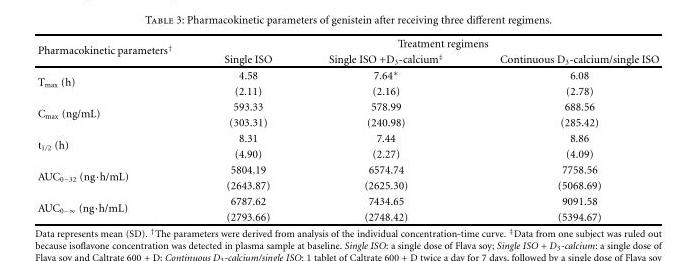table: (36, 37, 658, 222)
table column: (470, 37, 658, 222), (299, 37, 470, 222), (36, 37, 197, 222), (197, 37, 299, 222)
table column header: (36, 37, 658, 66)
table row: (36, 50, 658, 66), (36, 66, 658, 82), (36, 82, 658, 98), (36, 98, 658, 114), (36, 114, 658, 130), (36, 145, 658, 161), (36, 161, 658, 177), (36, 192, 658, 208), (36, 130, 658, 145), (36, 177, 658, 192), (36, 208, 658, 222), (36, 37, 658, 50)
table spanning cell: (197, 37, 658, 50), (36, 66, 197, 98), (36, 98, 197, 130), (36, 130, 197, 161), (36, 161, 197, 192), (36, 192, 197, 222), (36, 37, 197, 66)
